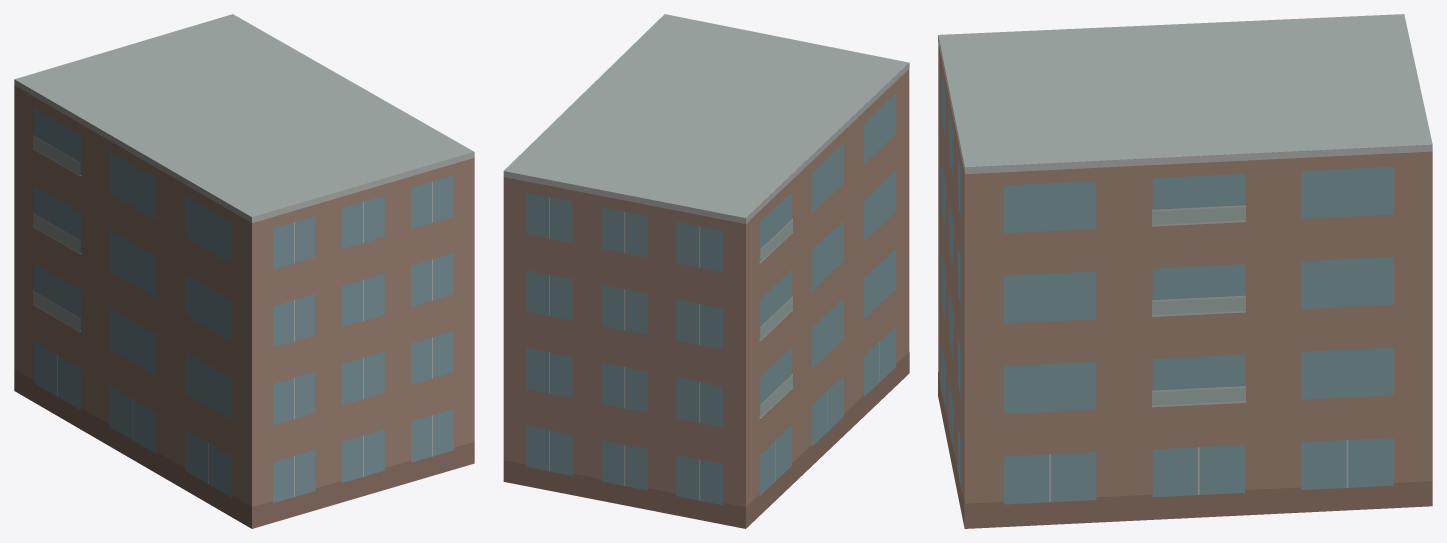
File: survey-upis-32655439.glb
3 views of the same model, side by side, from view 1: azimuth 30°, elevation 25°; view 2: azimuth 150°, elevation 25°; view 3: azimuth 270°, elevation 25° (orthographic). The views are drawn at different scales.
Parts seen in each view (by area): view 1: survey-upis-32655439.tmp; view 2: survey-upis-32655439.tmp; view 3: survey-upis-32655439.tmp.
Part boxes in pixels (x1=…): survey-upis-32655439.tmp: x1=14, y1=14, x2=474, y2=528; survey-upis-32655439.tmp: x1=503, y1=14, x2=909, y2=528; survey-upis-32655439.tmp: x1=938, y1=14, x2=1432, y2=528.
Bounding box in the file's own units: 11.65 × 12.8 × 15.88.
